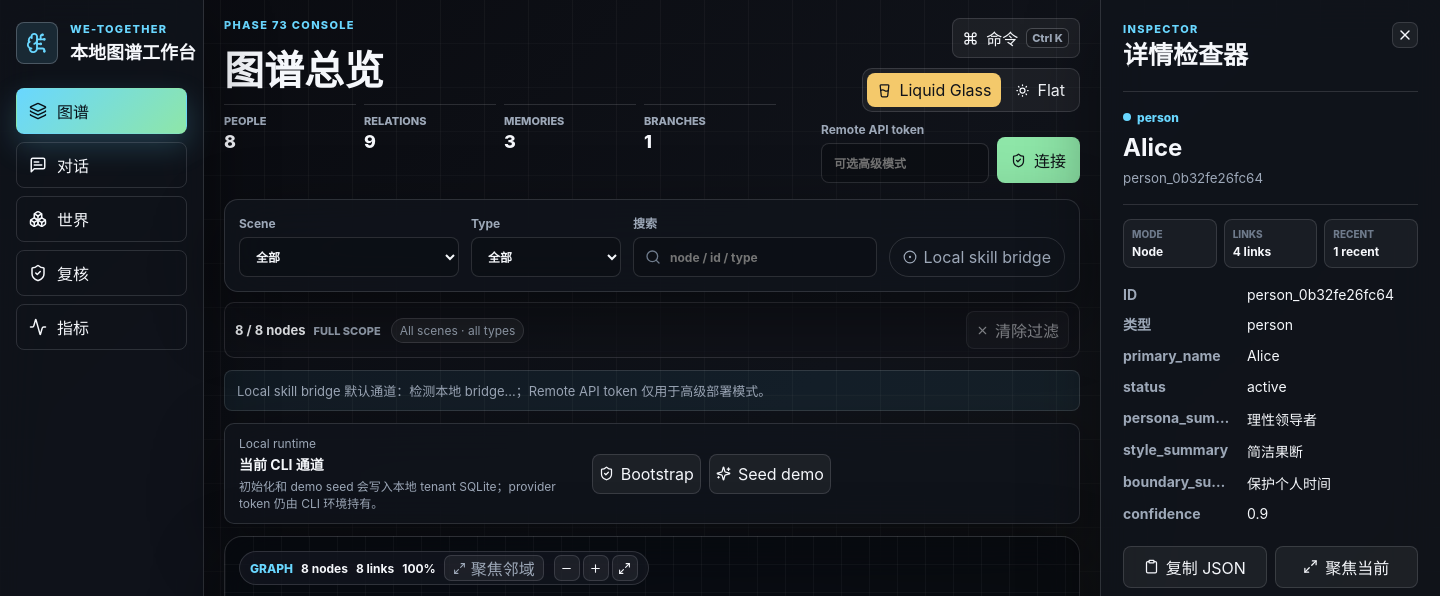
Test: WeTogether WebUI › runs the first command palette result with enter
Type keys "{Control>}k{/Control}"
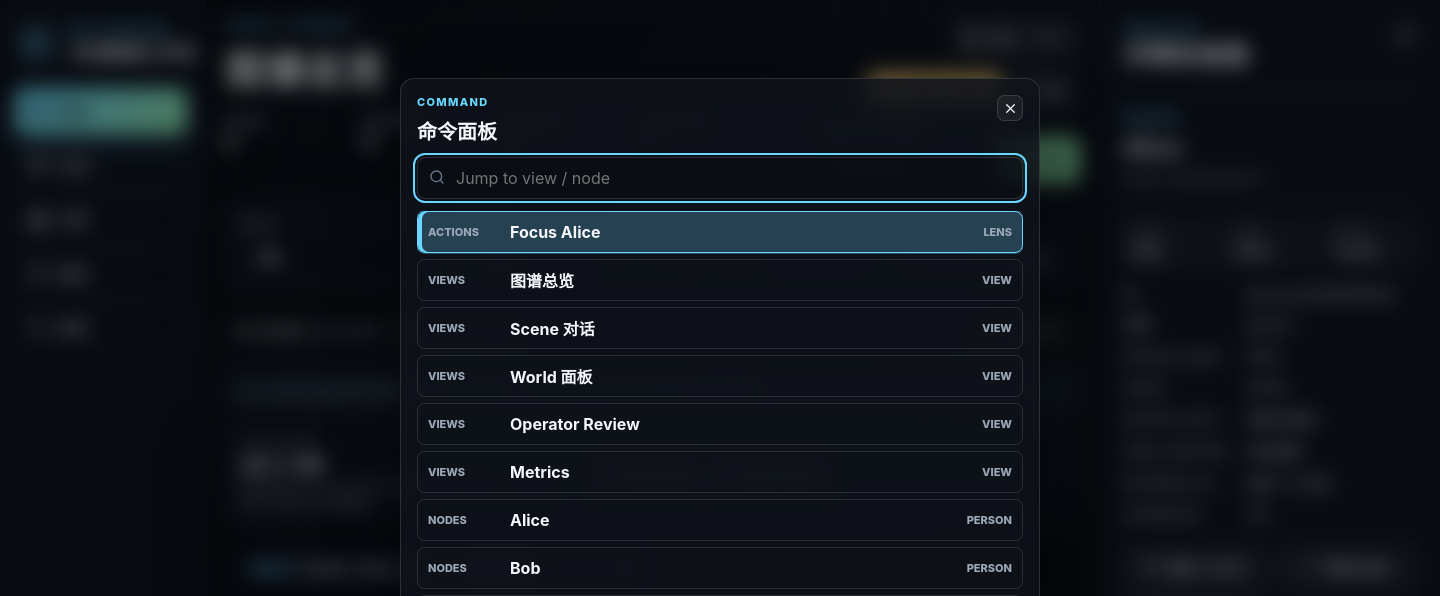
Type "Bob" into the field named "命令搜索".
click(720, 178); type("Bob")  # box [417,157,1023,199]
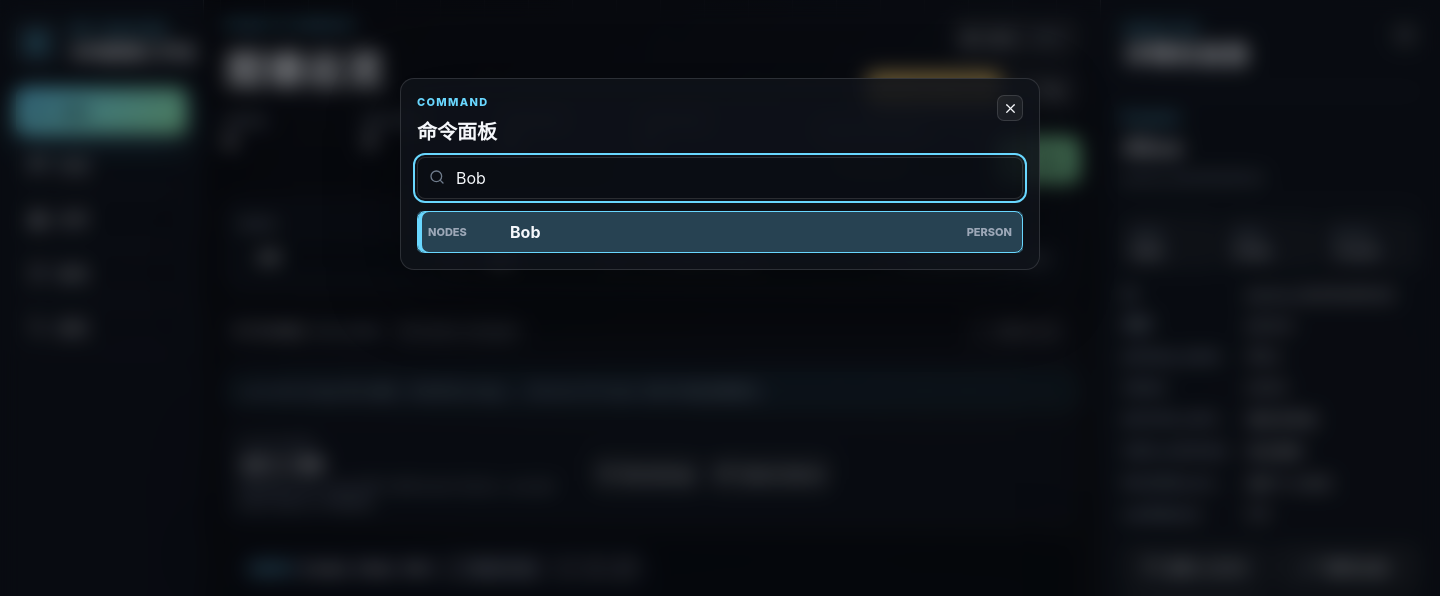
Press Enter
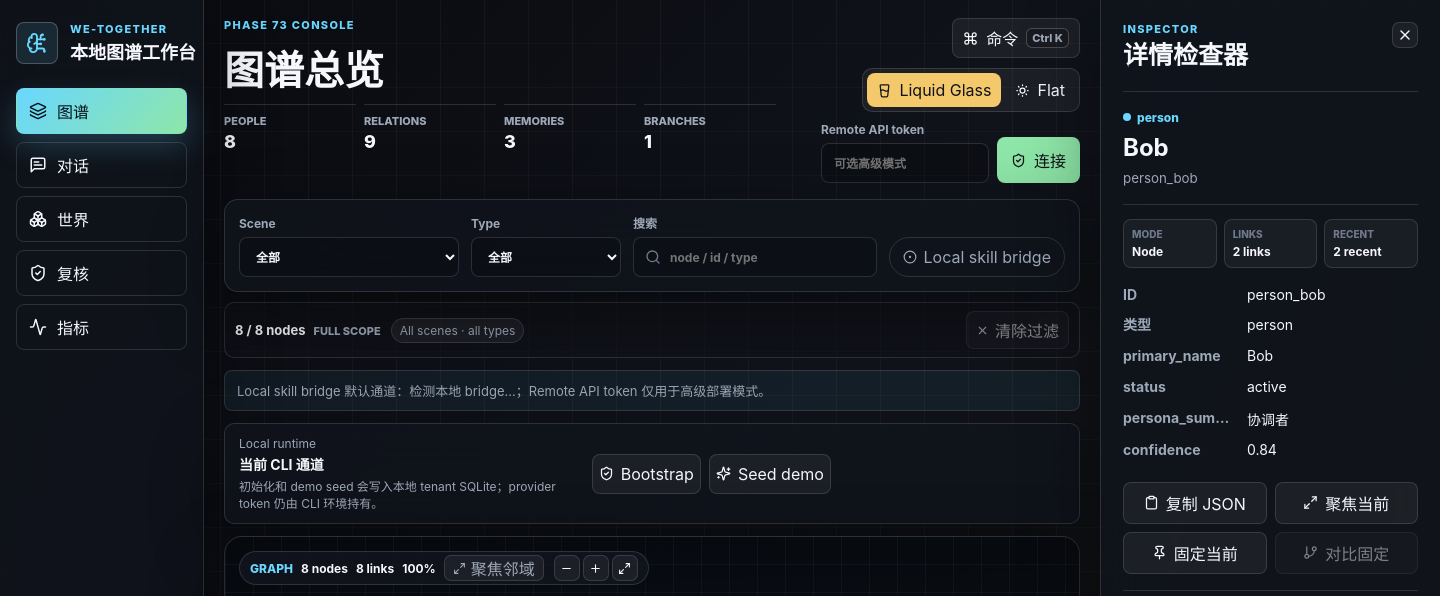
Expected: the heading "命令面板" is gone
Expected: the 1st text "person_bob" is shown, [1123,170,1198,186]
